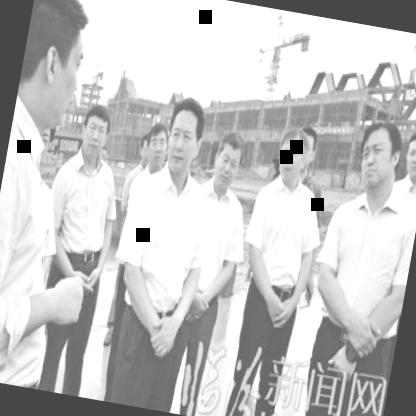head: (11, 0, 98, 137), (351, 112, 407, 198), (160, 92, 210, 182), (74, 97, 116, 164), (209, 126, 249, 194), (272, 126, 310, 186), (138, 116, 172, 176), (297, 124, 321, 174), (399, 123, 416, 182)
